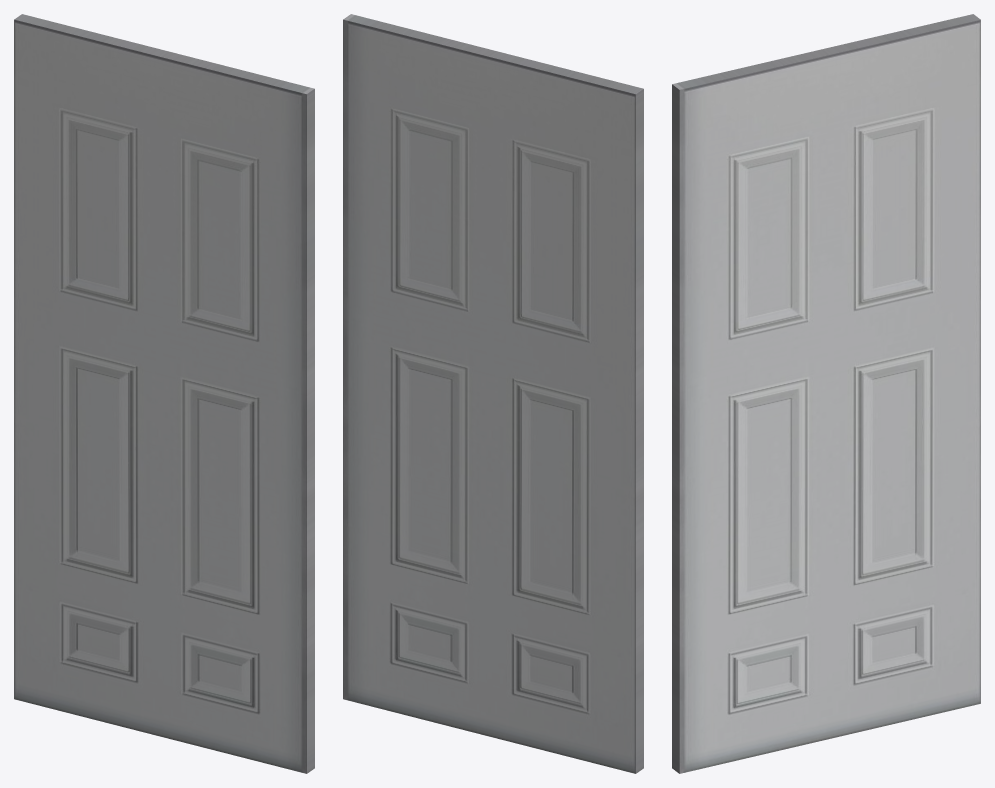
Rendered from toilet.gltf.
3 views of the same model, side by side, from view 1: azimuth 30°, elevation 25°; view 2: azimuth 210°, elevation 25°; view 3: azimuth 270°, elevation 25° (orthographic).
Visible parts, largest first — view 1: Plane; view 2: Plane; view 3: Plane.
Part boxes in pixels (x1,y1,x2,y2): Plane: (14, 14, 314, 773); Plane: (343, 14, 643, 773); Plane: (672, 14, 980, 773).
Size of the model in its own units: 0.5516 by 2.32 by 0.948.
1 material, 1 textured.
